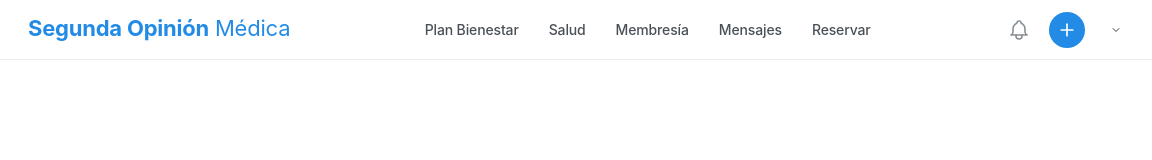
Test: el menú del avatar tiene un solo acceso a la cuenta
Click the 4th button: {"x": 1112, "y": 30} 1095,20 -> 1130,40
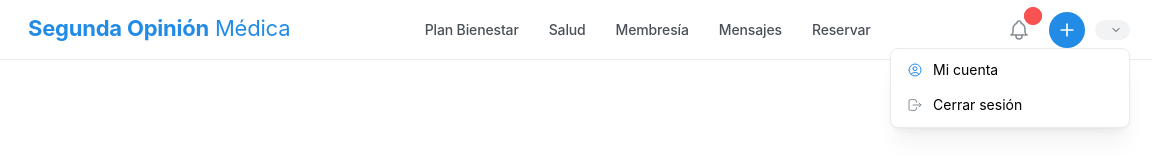
Now the text "Mi cuenta" is shown, box 933,61 -> 998,78
